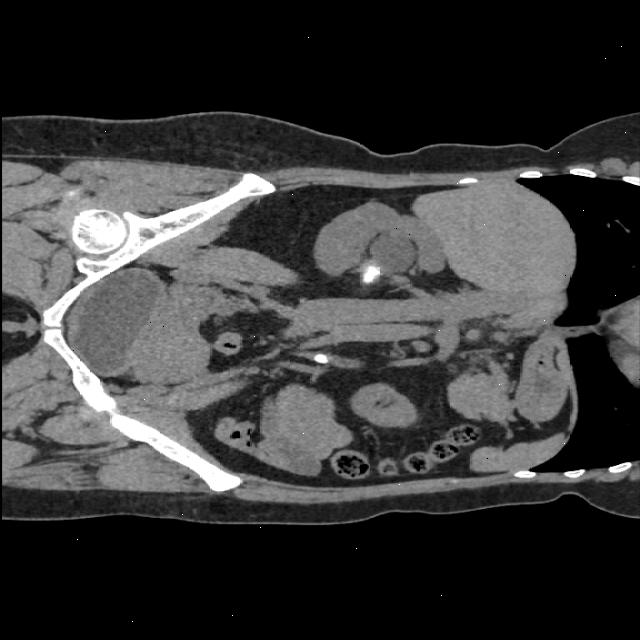kidneystone: (361, 265, 380, 284), (313, 354, 327, 364)
